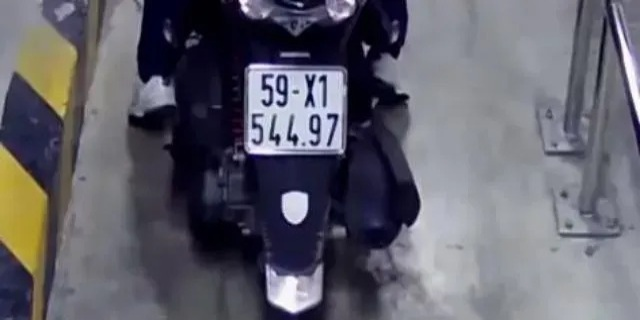bien_so: (246, 65, 348, 157)
